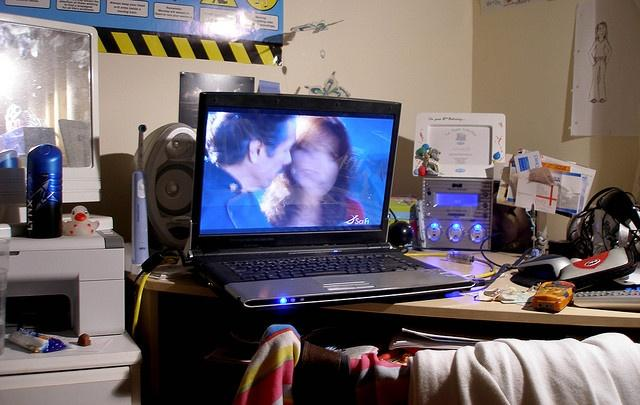Printer: (0, 225, 126, 337)
